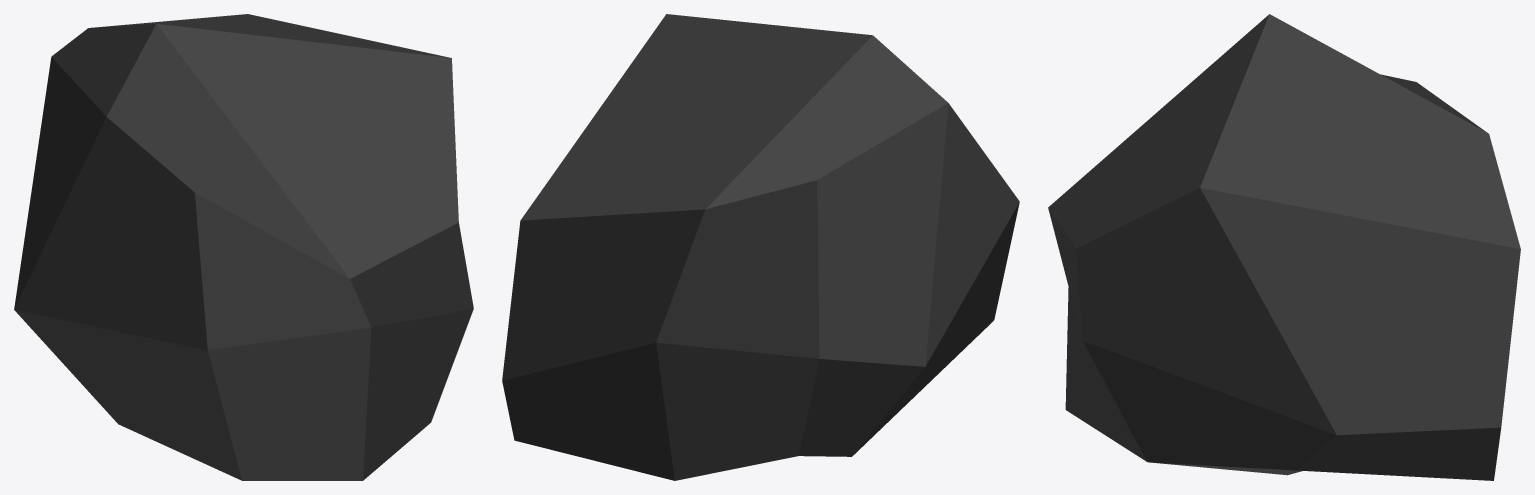
File: roca.fbx
3 renders of one model, left to right at view 1: azimuth 30°, elevation 25°; view 2: azimuth 150°, elevation 25°; view 3: azimuth 270°, elevation 25°, orthographic. The views are drawn at different scales.
Parts seen in each view (by area): view 1: Cube.003; view 2: Cube.003; view 3: Cube.003.
Part boxes in pixels (x1=…): Cube.003: x1=14, y1=14, x2=473, y2=480; Cube.003: x1=502, y1=14, x2=1019, y2=480; Cube.003: x1=1048, y1=14, x2=1520, y2=480.
Bounding box in the file's own units: 226 × 227 × 241.
1 material, 1 textured.
